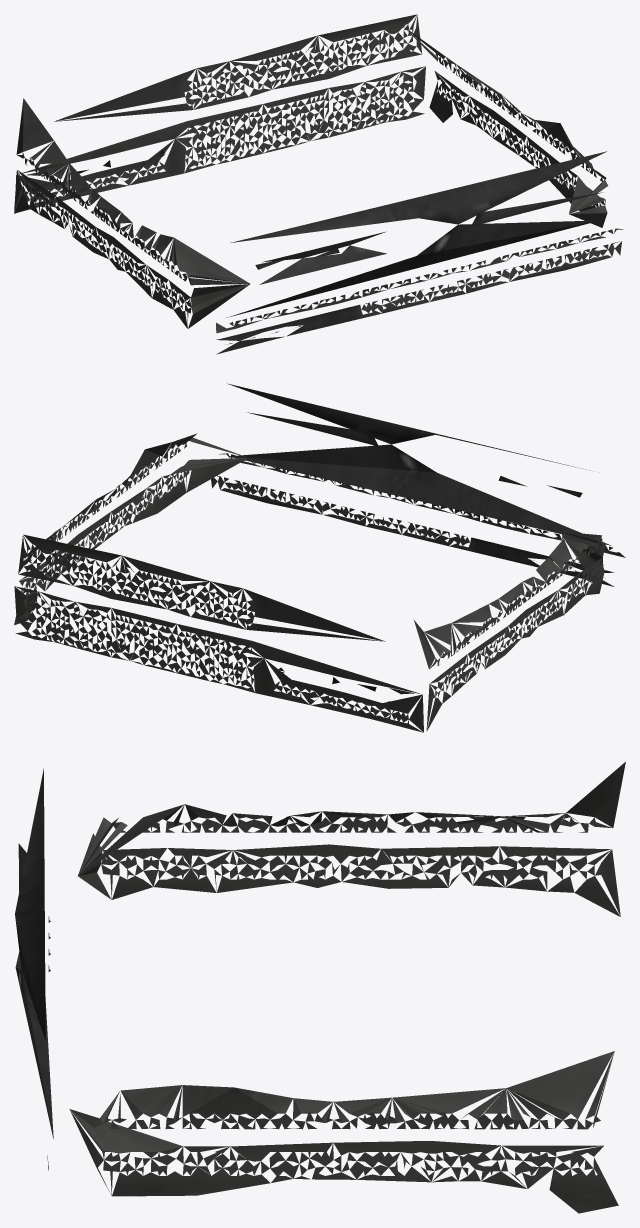
The model's file is gaming_console.glb.
3 renders of one model, top to bottom at view 1: azimuth 30°, elevation 25°; view 2: azimuth 150°, elevation 25°; view 3: azimuth 270°, elevation 25°, orthographic. The views are drawn at different scales.
Parts seen in each view (by area): view 1: gaming_console; view 2: gaming_console; view 3: gaming_console.
Boxes of the visible parts, x1,y1,x2,y2 form: gaming_console: (14,14,623,354); gaming_console: (14,383,625,732); gaming_console: (15,761,625,1213).
Size of the model in its own units: 0.325 by 0.0855 by 0.2836.
Materials: 1 (1 with a texture image).
